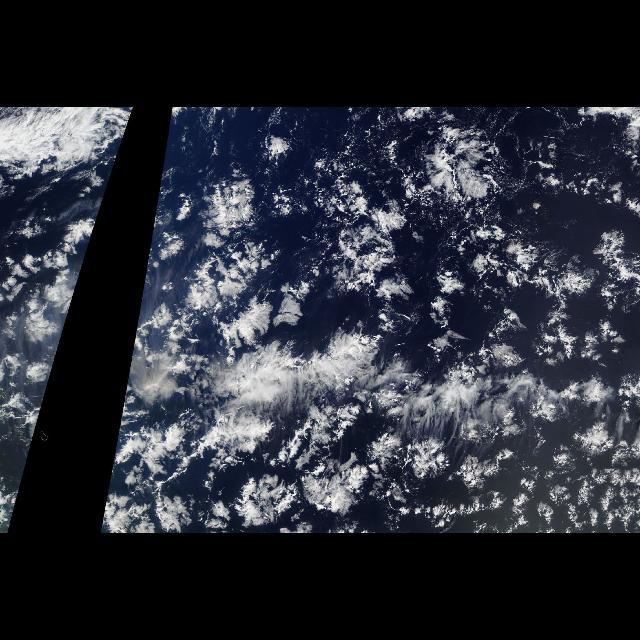Flower: (100, 109, 638, 533), (0, 109, 134, 531)
